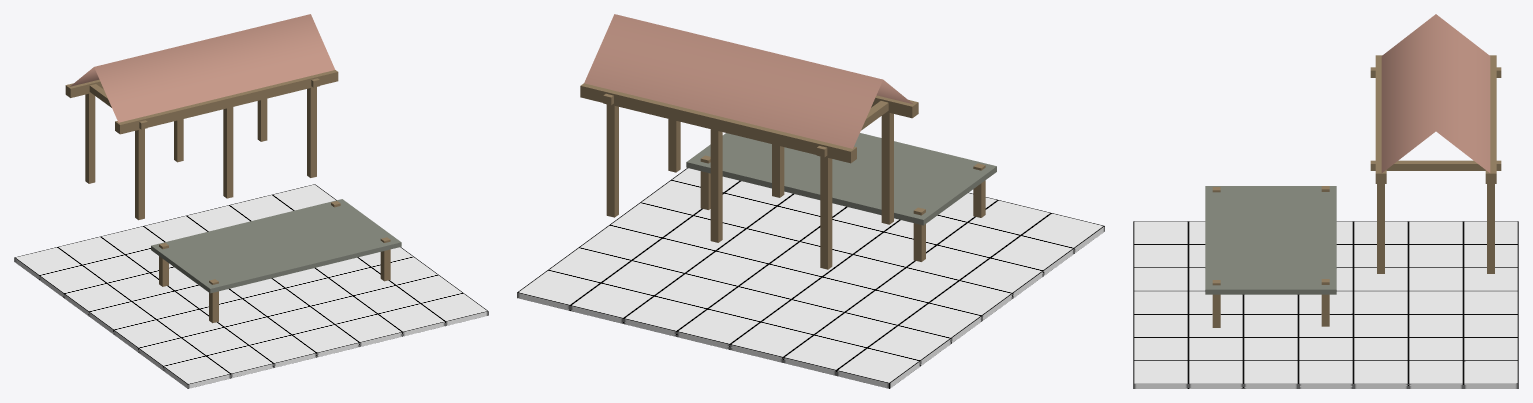
The model's file is XG_Herbalists-Hut.glb.
3 views of the same model, side by side, from view 1: azimuth 30°, elevation 25°; view 2: azimuth 150°, elevation 25°; view 3: azimuth 270°, elevation 25° (orthographic). The views are drawn at different scales.
Parts seen in each view (by area): view 1: ground_7_x_7_014, Plane041, Box840, Box830, Box834, Box833, Box832, Box836, Box837, Box835; view 2: ground_7_x_7_014, Plane041, Box840, Box831, Box835, Box837, Box833, Box832, Box834, Box836, Box830, Box844 (+1 smaller); view 3: ground_7_x_7_014, Box840, Plane041, Box839, Box831, Box830, Box836, Box837, Box841, Box842.
Part boxes in pixels (bbox=[...]): ground_7_x_7_014: bbox=[14, 184, 488, 388]; Plane041: bbox=[70, 14, 335, 122]; Box840: bbox=[151, 199, 401, 293]; Box830: bbox=[115, 70, 338, 134]; Box834: bbox=[223, 107, 233, 198]; Box833: bbox=[85, 93, 95, 183]; Box832: bbox=[135, 129, 144, 220]; Box836: bbox=[307, 87, 316, 177]; Box837: bbox=[257, 98, 267, 141]; Box835: bbox=[174, 119, 183, 162]; ground_7_x_7_014: bbox=[517, 168, 1104, 388]; Plane041: bbox=[584, 14, 912, 148]; Box840: bbox=[686, 133, 996, 225]; Box831: bbox=[580, 83, 856, 163]; Box835: bbox=[710, 129, 722, 242]; Box837: bbox=[606, 104, 618, 217]; Box833: bbox=[820, 156, 832, 269]; Box832: bbox=[881, 112, 893, 224]; Box834: bbox=[772, 144, 784, 197]; Box836: bbox=[668, 119, 680, 172]; Box830: bbox=[871, 95, 918, 118]; Box844: bbox=[913, 207, 925, 261]; ground_7_x_7_014: bbox=[1133, 221, 1518, 388]; Box840: bbox=[1205, 186, 1336, 294]; Plane041: bbox=[1381, 14, 1490, 172]; Box839: bbox=[1370, 160, 1501, 170]; Box831: bbox=[1485, 55, 1496, 183]; Box830: bbox=[1375, 55, 1386, 183]; Box836: bbox=[1377, 184, 1384, 273]; Box837: bbox=[1487, 184, 1494, 273]; Box841: bbox=[1212, 280, 1220, 327]; Box842: bbox=[1321, 279, 1329, 326].
Bounding box in the file's own units: 7 × 4.72 × 7.
Materials: 4 (1 with a texture image).
